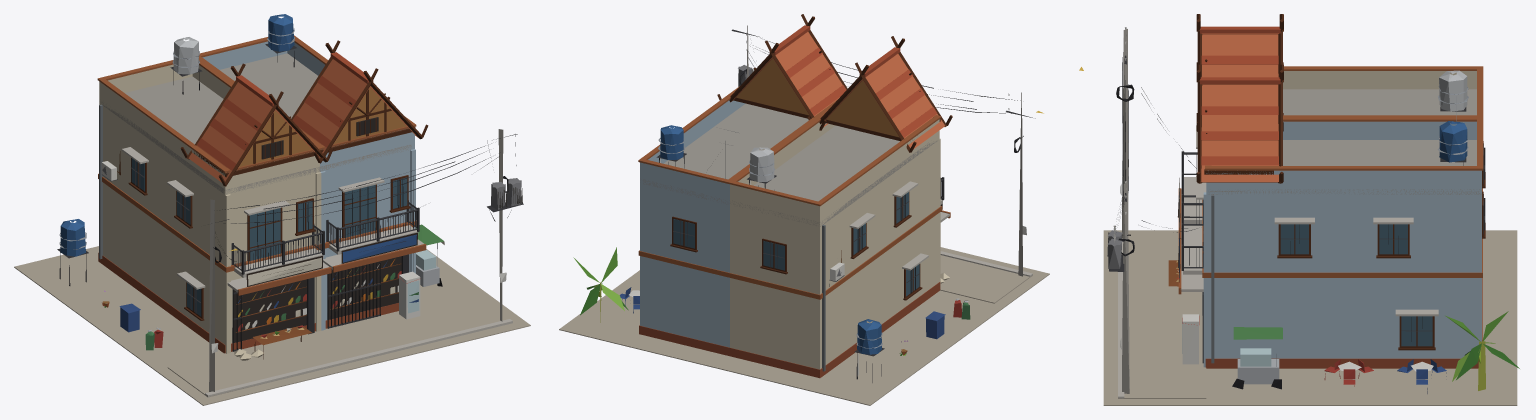
Rendered from shop_2.glb.
3 views of the same model, side by side, from view 1: azimuth 30°, elevation 25°; view 2: azimuth 150°, elevation 25°; view 3: azimuth 270°, elevation 25° (orthographic). The views are drawn at different scales.
Parts seen in each view (by area): view 1: body, windows; view 2: body, windows; view 3: body, windows.
Part boxes in pixels (x1,y1,x2,y2): body: [14, 14, 530, 405]; windows: [131, 117, 407, 342]; body: [559, 14, 1049, 405]; windows: [673, 111, 1043, 296]; body: [1103, 14, 1519, 405]; windows: [1079, 67, 1483, 346].
Size of the model in its own units: 15.9 by 11.94 by 17.05.
